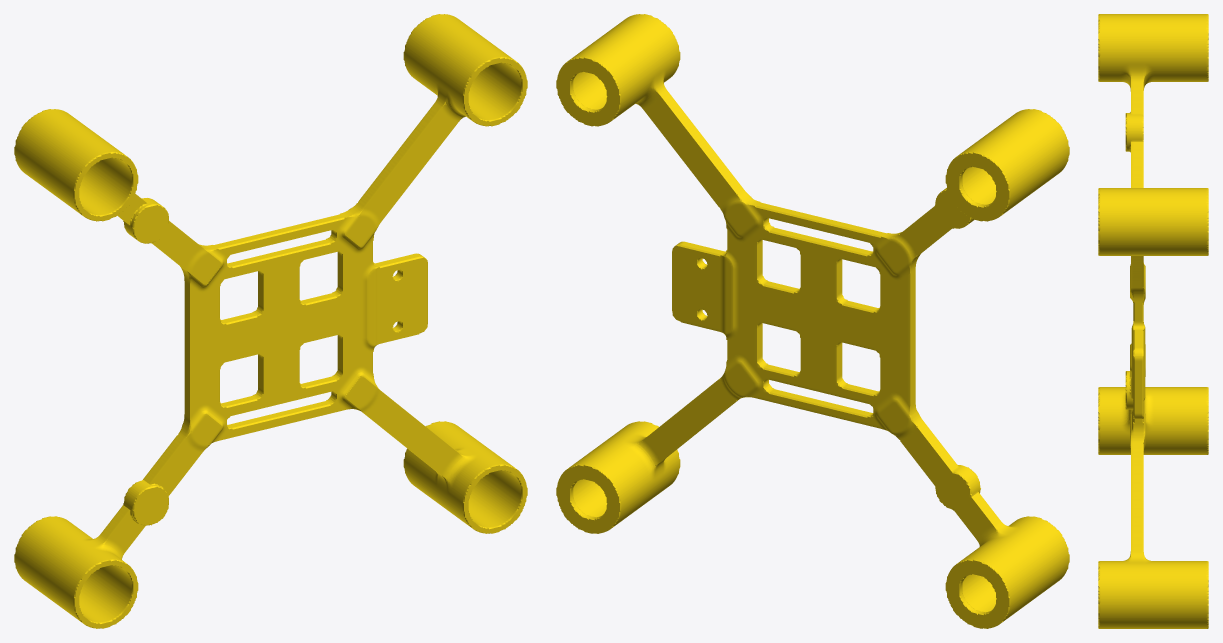
Rendered from drone_frame_v2 (1)-compressed.glb.
3 renders of one model, left to right at view 1: azimuth 30°, elevation 25°; view 2: azimuth 150°, elevation 25°; view 3: azimuth 270°, elevation 25°, orthographic. The views are drawn at different scales.
Visible parts, largest first — view 1: empty_2; view 2: empty_2; view 3: empty_2.
Boxes of the visible parts, x1,y1,x2,y2 form: empty_2: [14, 14, 527, 628]; empty_2: [556, 14, 1069, 628]; empty_2: [1098, 14, 1208, 628].
Size of the model in its own units: 74.1 by 74.1 by 17.
